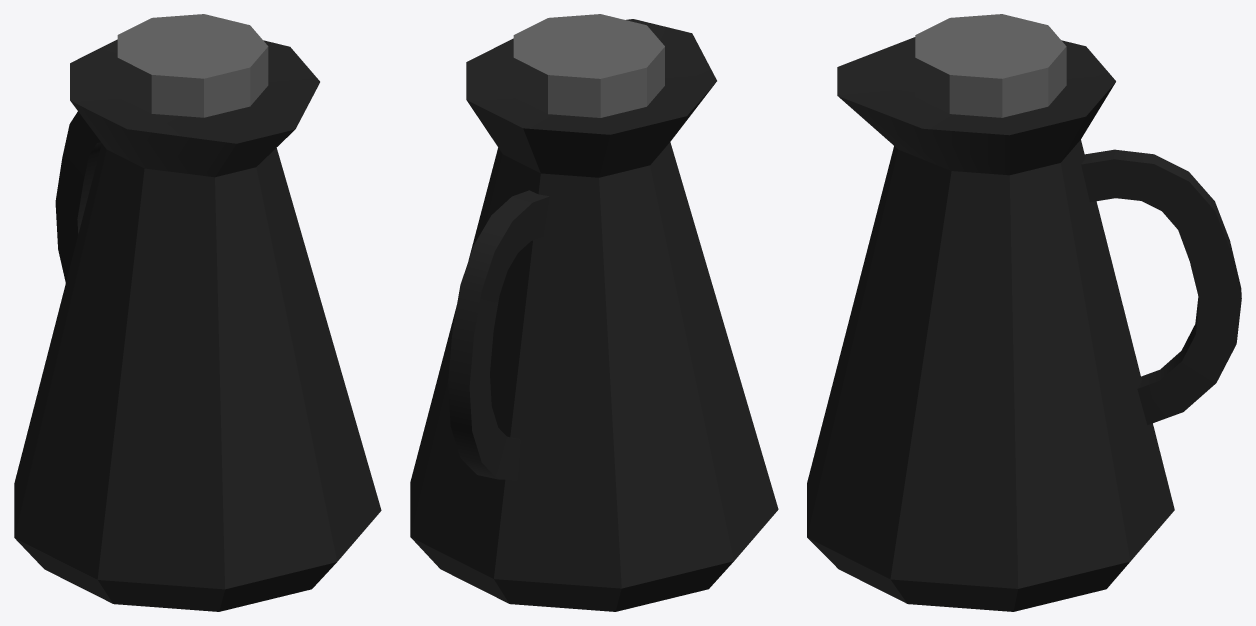
Rendered from Termos.fbx.
The picture shows the model from 3 angles, left to right: view 1: azimuth 30°, elevation 25°; view 2: azimuth 150°, elevation 25°; view 3: azimuth 270°, elevation 25°; orthographic projection.
Parts seen in each view (by area): view 1: Cylinder.001; view 2: Cylinder.001; view 3: Cylinder.001.
Boxes of the visible parts, x1,y1,x2,y2 form: Cylinder.001: (14,14,381,611); Cylinder.001: (410,14,778,611); Cylinder.001: (807,14,1241,611).
Size of the model in its own units: 17.97 by 26.57 by 20.93.
1 material, 1 textured.
